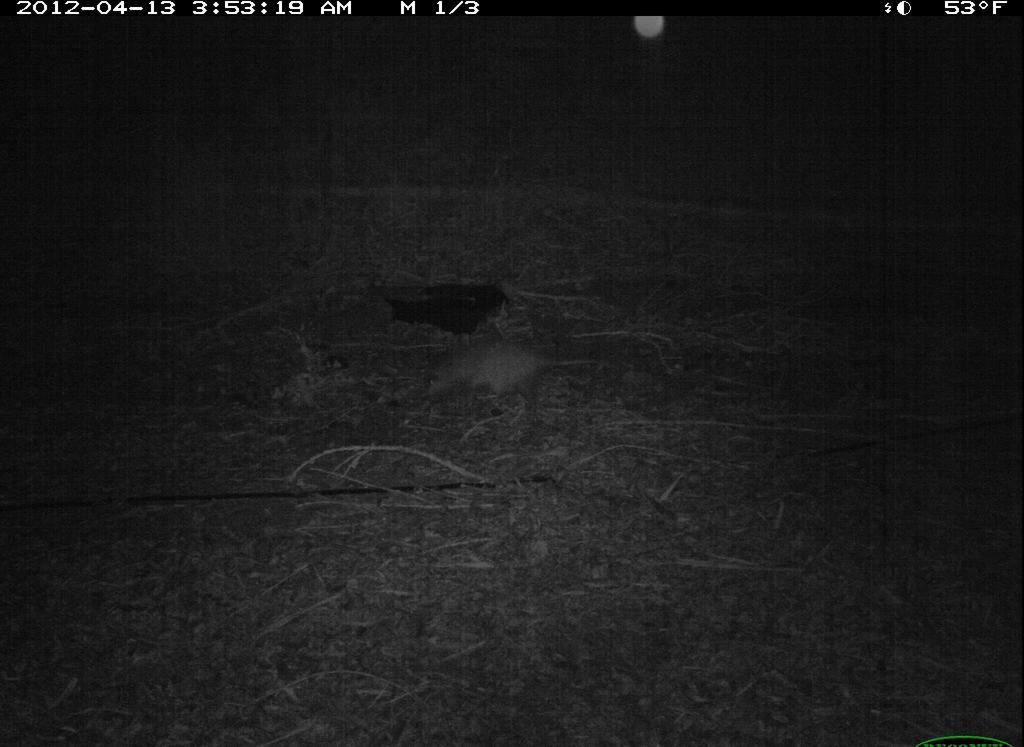opossum: (422, 336, 616, 408)
